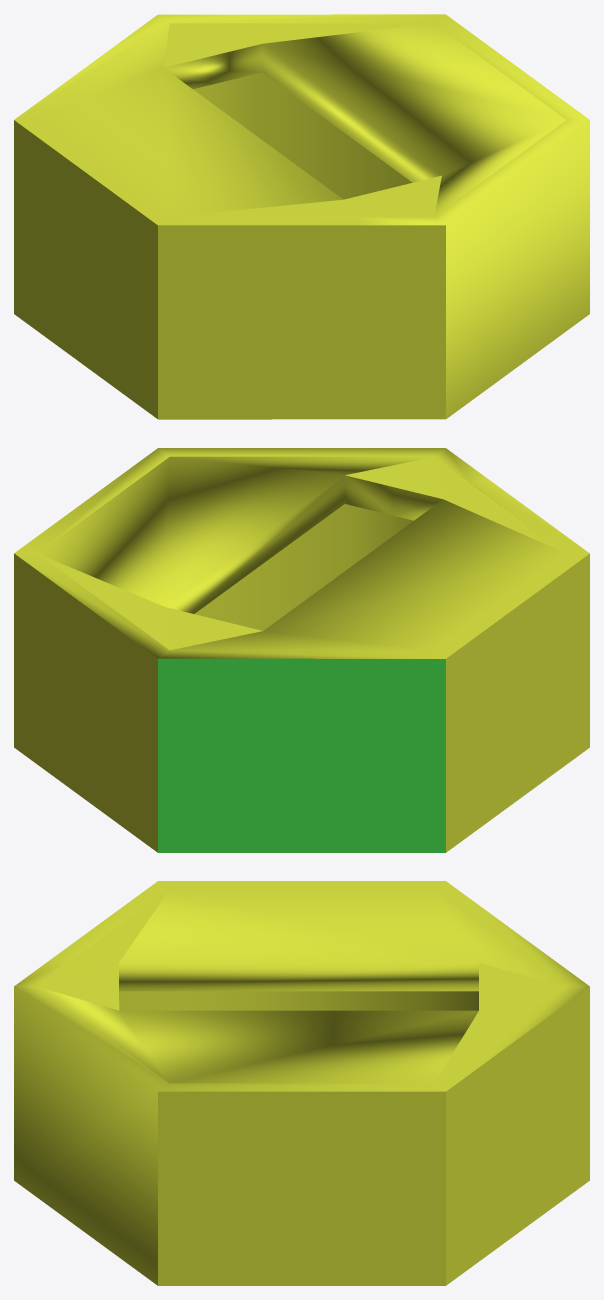
The model's file is ResourceTileStage2_1.fbx.
3 views of the same model, one above another, from view 1: azimuth 30°, elevation 25°; view 2: azimuth 150°, elevation 25°; view 3: azimuth 270°, elevation 25° (orthographic).
Parts seen in each view (by area): view 1: ResourceTileStage2_1; view 2: ResourceTileStage2_1; view 3: ResourceTileStage2_1.
Part boxes in pixels (left/top/right/bottom): ResourceTileStage2_1: left=14, top=14, right=589, bottom=419; ResourceTileStage2_1: left=14, top=448, right=589, bottom=852; ResourceTileStage2_1: left=14, top=881, right=589, bottom=1285.
Bounding box in the file's own units: 173 × 74.43 × 200.
